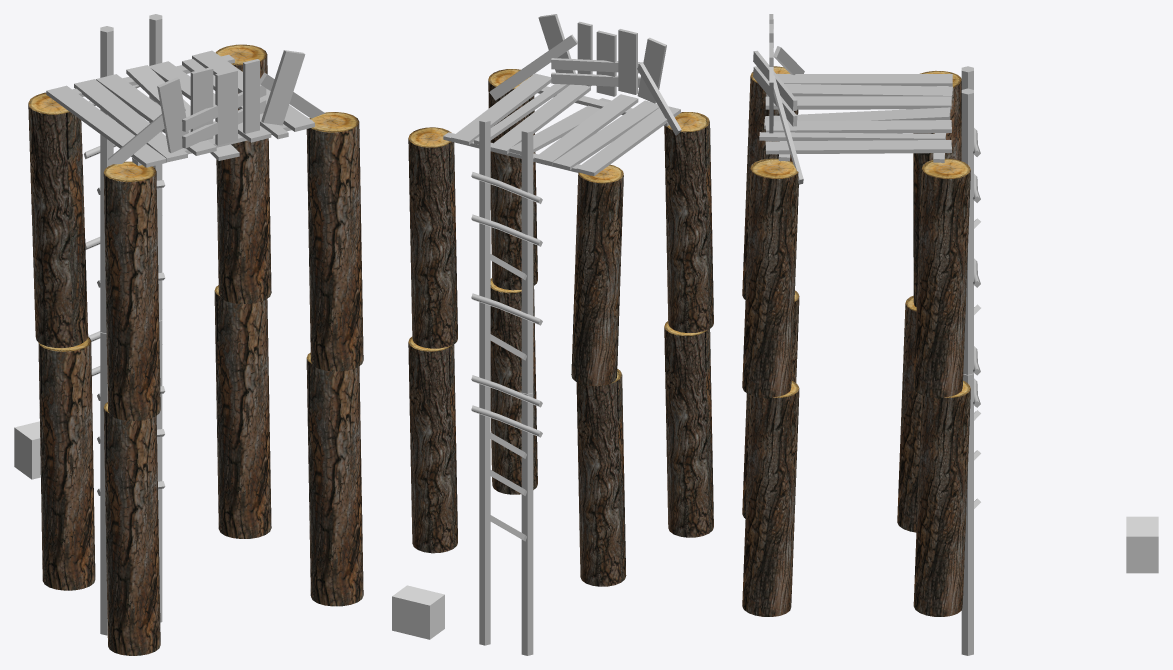
File: Vishka.FBX
3 renders of one model, left to right at view 1: azimuth 30°, elevation 25°; view 2: azimuth 150°, elevation 25°; view 3: azimuth 270°, elevation 25°, orthographic. The views are drawn at different scales.
Parts seen in each view (by area): view 1: Cylinder008, Cylinder005, Cylinder010, Cylinder006, Brevno_01, Cylinder002, Brevno_02, Cylinder007, Box030, Box039, Lest_up_003, Lest_up_01 (+17 smaller); view 2: Cylinder007, Cylinder006, Cylinder008, Cylinder002, Brevno_02, Cylinder010, Brevno_01, Cylinder005, Lest_up_003, Lest_up_01, Lest_up_02, Lest_up_004 (+22 smaller); view 3: Cylinder007, Cylinder005, Brevno_01, Cylinder002, Cylinder010, Box043, Lest_up_004, Lest_up_02, Box042, Cylinder006, Box040, Cylinder008 (+8 smaller).
Boxes of the visible parts, x1,y1,x2,y2 form: Cylinder008: (103, 161, 160, 420); Cylinder005: (306, 112, 363, 371); Cylinder010: (38, 337, 95, 590); Cylinder006: (28, 92, 88, 347); Brevno_01: (306, 352, 363, 606); Cylinder002: (214, 285, 271, 538); Brevno_02: (103, 402, 160, 655); Cylinder007: (215, 44, 271, 303); Box030: (46, 85, 166, 167); Box039: (74, 79, 187, 162); Lest_up_003: (100, 26, 113, 333); Lest_up_01: (100, 332, 107, 635); Cylinder007: (408, 127, 457, 348); Cylinder006: (571, 164, 623, 386); Cylinder008: (664, 112, 713, 332); Cylinder002: (408, 336, 457, 553); Brevno_02: (664, 321, 713, 537); Cylinder010: (576, 369, 626, 586); Brevno_01: (490, 278, 537, 494); Cylinder005: (488, 69, 537, 290); Lest_up_003: (521, 127, 533, 393); Lest_up_01: (521, 393, 533, 655); Lest_up_02: (479, 384, 490, 645); Lest_up_004: (479, 116, 490, 380); Cylinder007: (913, 158, 970, 398); Cylinder005: (742, 158, 798, 398); Brevno_01: (742, 381, 799, 616); Cylinder002: (913, 380, 970, 616); Cylinder010: (897, 295, 921, 532); Box043: (765, 140, 951, 154); Lest_up_004: (961, 88, 973, 374); Lest_up_02: (961, 373, 973, 655); Box042: (765, 120, 951, 133); Cylinder006: (913, 70, 961, 306); Box040: (765, 96, 951, 109); Cylinder008: (742, 66, 798, 299).
Size of the model in its own units: 114 by 283 by 179.
